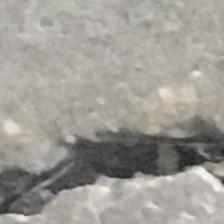Crack: (0, 110, 224, 216)
